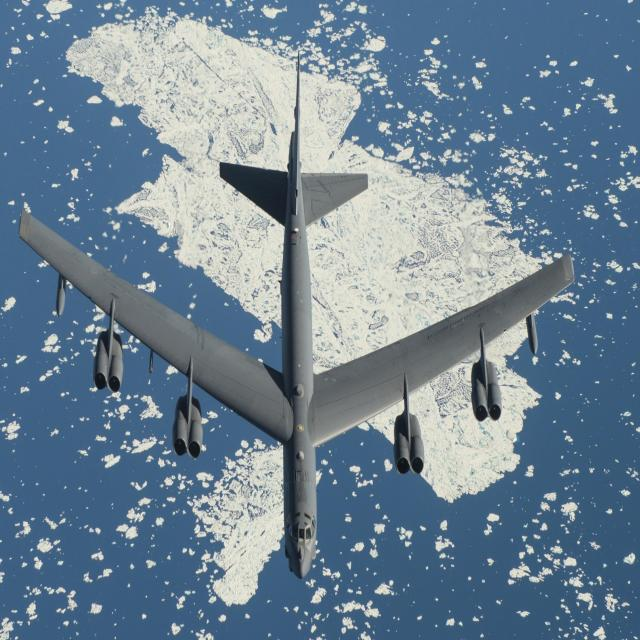B1: (17, 85, 596, 586)
